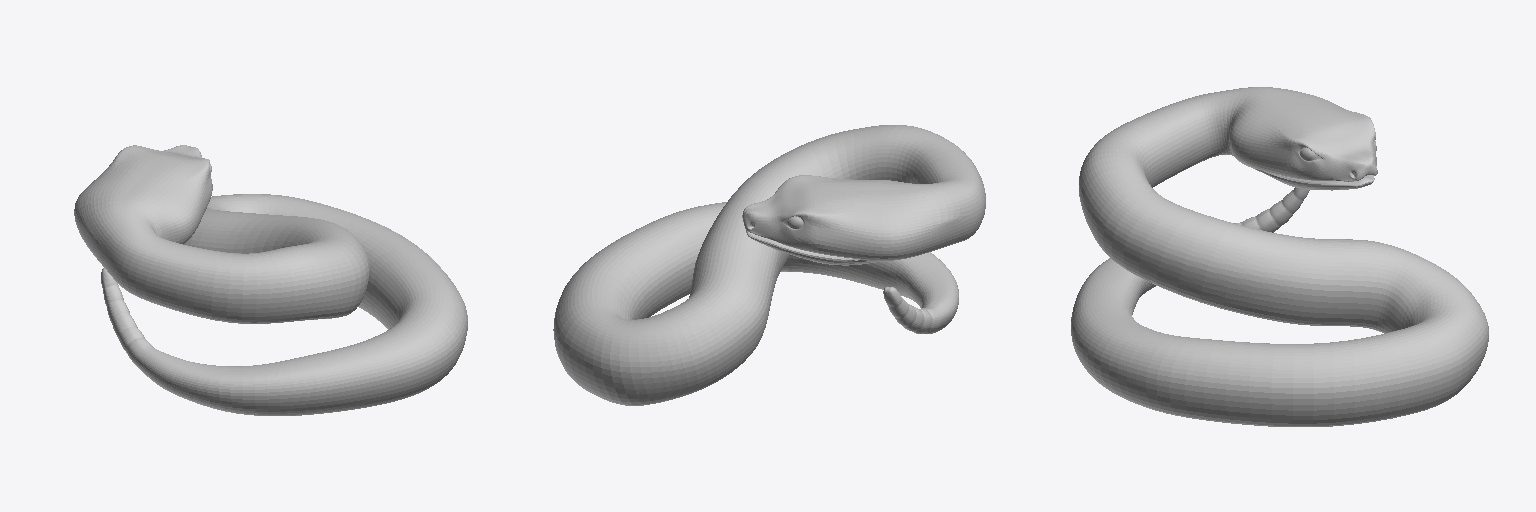
File: kuti_snake2.obj
3 views of the same model, side by side, from view 1: azimuth 30°, elevation 25°; view 2: azimuth 150°, elevation 25°; view 3: azimuth 270°, elevation 25° (orthographic).
Visible parts, largest first — view 1: 10050_RattleSnake_v04; view 2: 10050_RattleSnake_v04; view 3: 10050_RattleSnake_v04.
Boxes of the visible parts, box(x1,y1,x2,y2) form: 10050_RattleSnake_v04: box(74, 145, 467, 415); 10050_RattleSnake_v04: box(553, 125, 985, 405); 10050_RattleSnake_v04: box(1071, 87, 1488, 426).
Bounding box in the file's own units: 10.95 × 5.84 × 11.28.